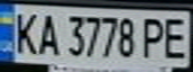3: (63, 11, 84, 57)
7: (81, 12, 103, 59), (100, 12, 121, 59)
8: (115, 13, 142, 60)
A: (33, 10, 63, 56)
E: (157, 12, 193, 61)
K: (9, 8, 42, 55)
P: (139, 13, 172, 60)
